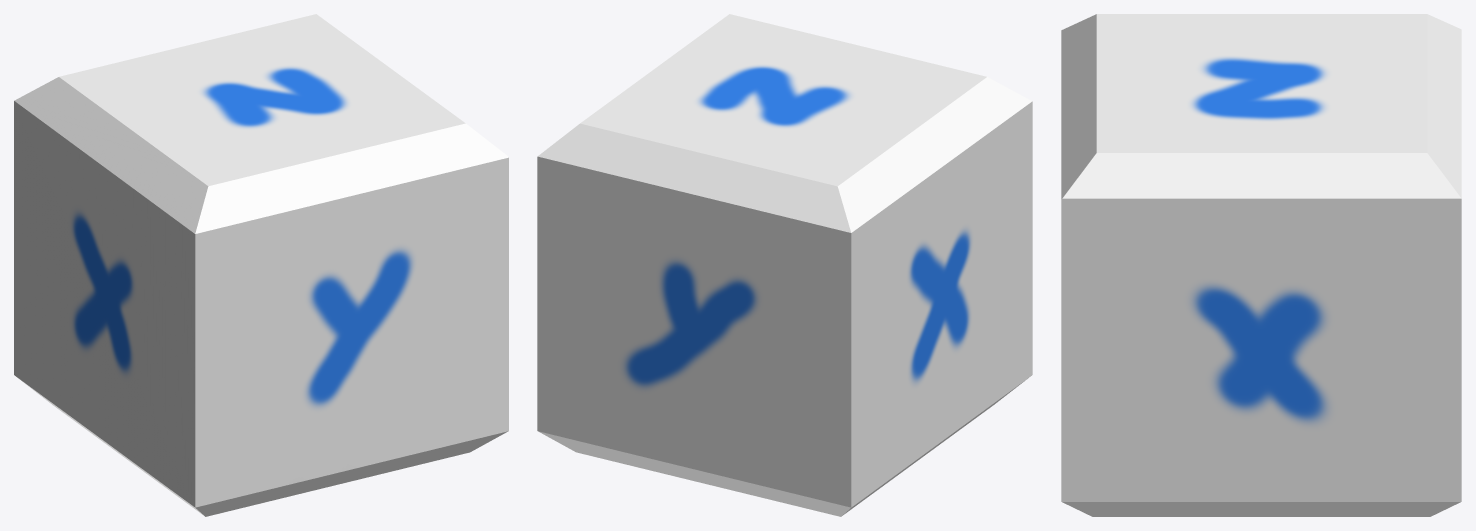
Rendered from xyz_cube.obj.
3 renders of one model, left to right at view 1: azimuth 30°, elevation 25°; view 2: azimuth 150°, elevation 25°; view 3: azimuth 270°, elevation 25°, orthographic. The views are drawn at different scales.
Parts seen in each view (by area): view 1: Cube; view 2: Cube; view 3: Cube.
Part boxes in pixels (x1,y1,x2,y2): Cube: [14, 14, 508, 516]; Cube: [537, 14, 1032, 516]; Cube: [1061, 14, 1461, 516].
Bounding box in the file's own units: 2 × 2 × 2.
Materials: 1 (1 with a texture image).
